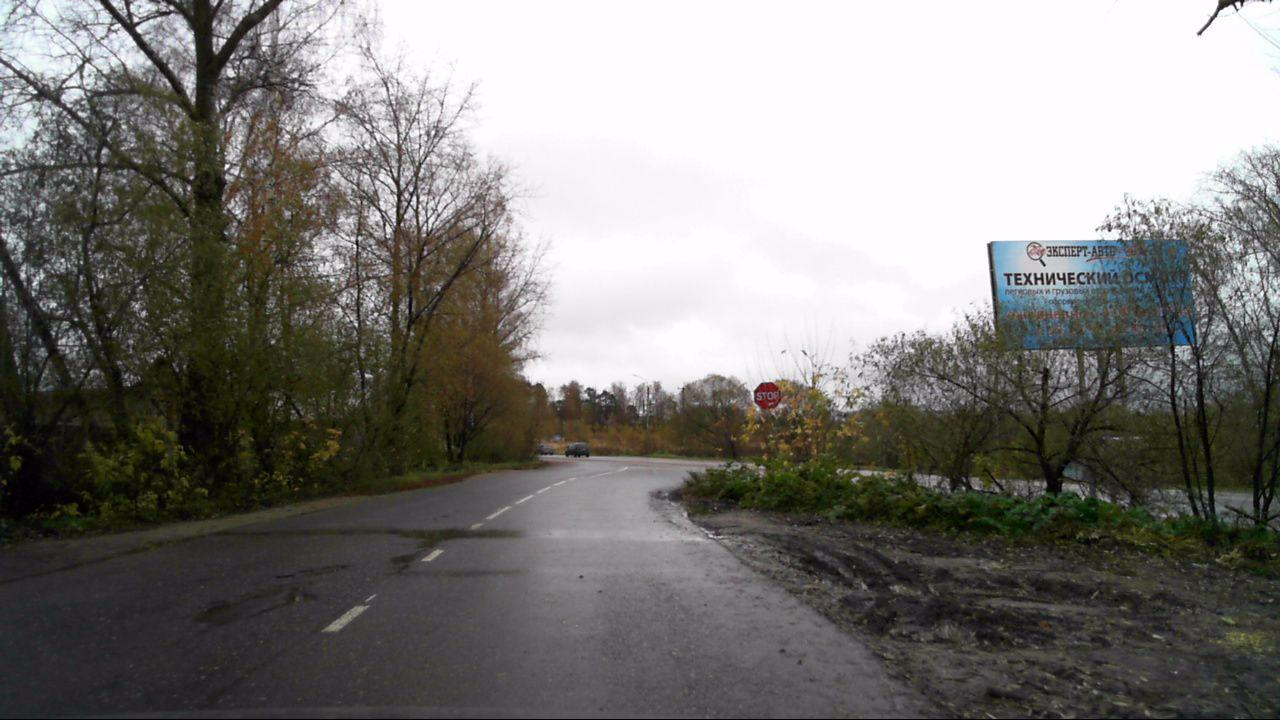road_sign: (754, 382, 782, 409)
